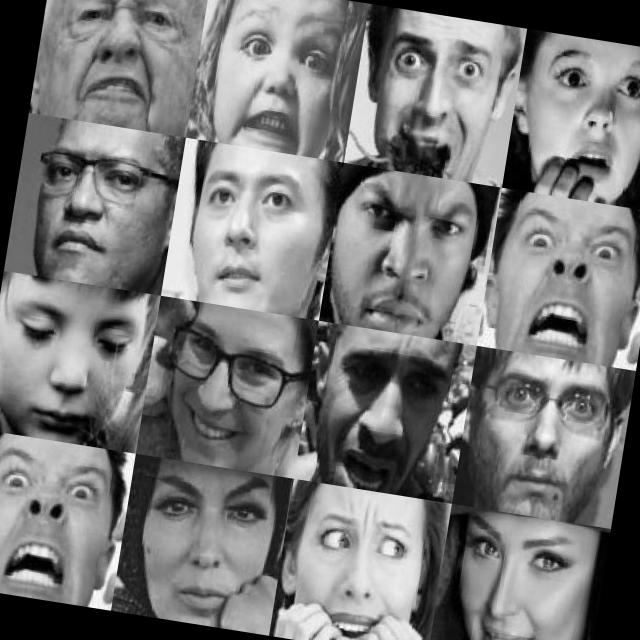angry: (322, 174, 481, 330), (488, 200, 633, 354), (41, 0, 195, 127), (0, 451, 116, 600)
fear: (457, 348, 618, 513), (304, 324, 464, 490), (281, 489, 438, 640), (356, 18, 506, 170), (214, 0, 350, 139), (518, 50, 640, 195)
happy: (142, 318, 296, 480)
neutral: (10, 131, 171, 286), (174, 147, 314, 299), (439, 507, 585, 640)
sad: (125, 467, 268, 626), (0, 295, 134, 436)
